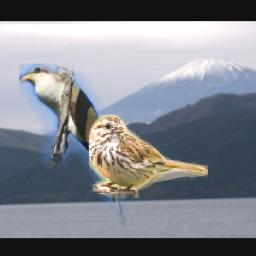Cuckoo: (19, 64, 127, 228)
Sparrow: (88, 115, 207, 199)
